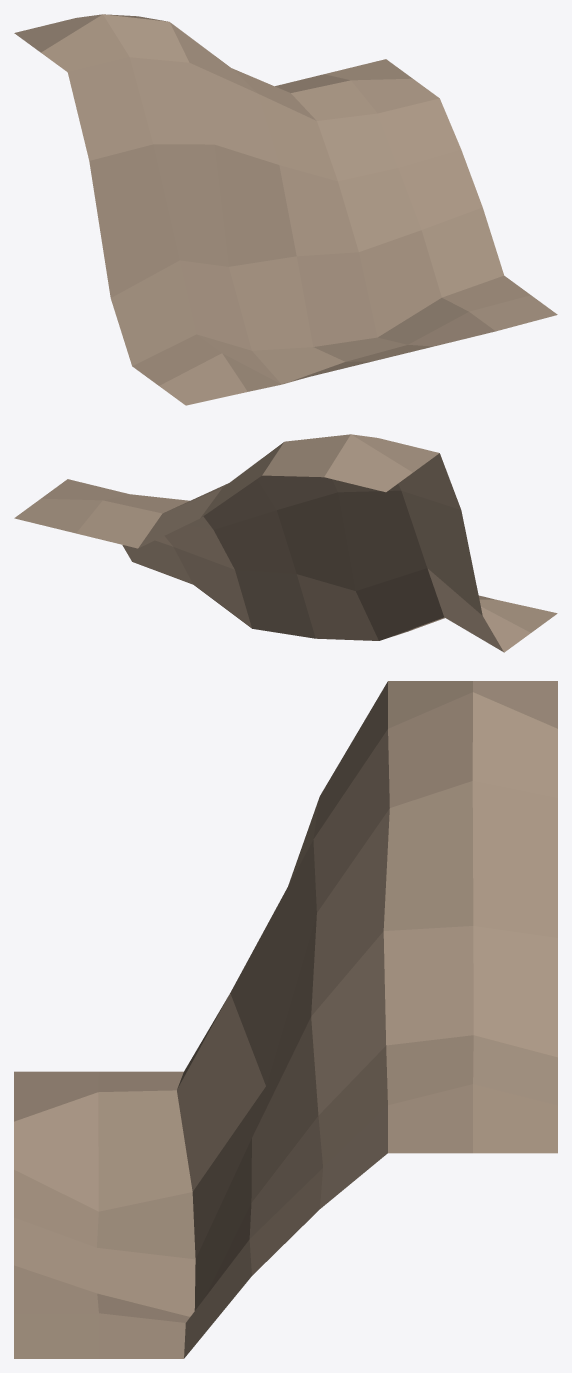
The model's file is Groborchik_RiverBank_Trans_Up4-2.fbx.
3 views of the same model, one above another, from view 1: azimuth 30°, elevation 25°; view 2: azimuth 150°, elevation 25°; view 3: azimuth 270°, elevation 25° (orthographic). The views are drawn at different scales.
Parts seen in each view (by area): view 1: Trans_Up4-2; view 2: Trans_Up4-2; view 3: Trans_Up4-2.
Boxes of the visible parts, <box> form: Trans_Up4-2: <box>14,14,557,405</box>; Trans_Up4-2: <box>14,434,557,652</box>; Trans_Up4-2: <box>14,681,557,1358</box>.
Bounding box in the file's own units: 1000 × 782 × 800.
